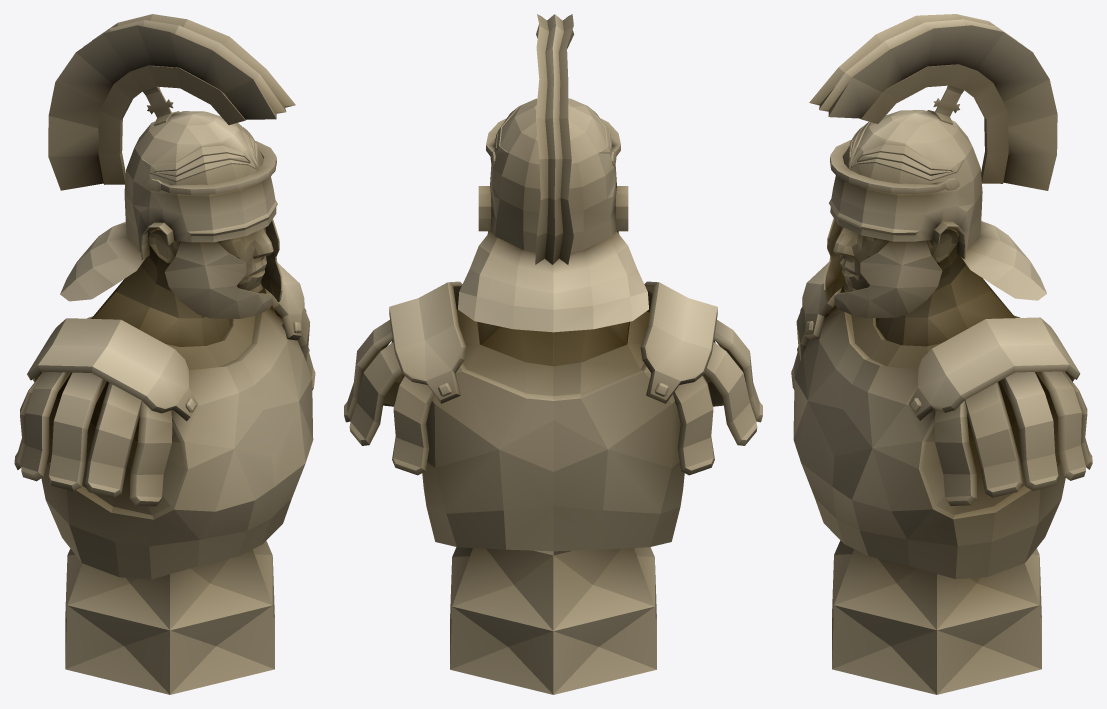
Rendered from armyTile_Roman.fbx.
The picture shows the model from 3 angles, left to right: view 1: azimuth 30°, elevation 25°; view 2: azimuth 150°, elevation 25°; view 3: azimuth 270°, elevation 25°; orthographic projection.
Visible parts, largest first — view 1: armyTile_Roman; view 2: armyTile_Roman; view 3: armyTile_Roman.
Boxes of the visible parts, <box> form: armyTile_Roman: <box>14,14,315,694</box>; armyTile_Roman: <box>344,14,762,694</box>; armyTile_Roman: <box>791,14,1092,694</box>.
Bounding box in the file's own units: 1.61 × 2.81 × 1.23.
